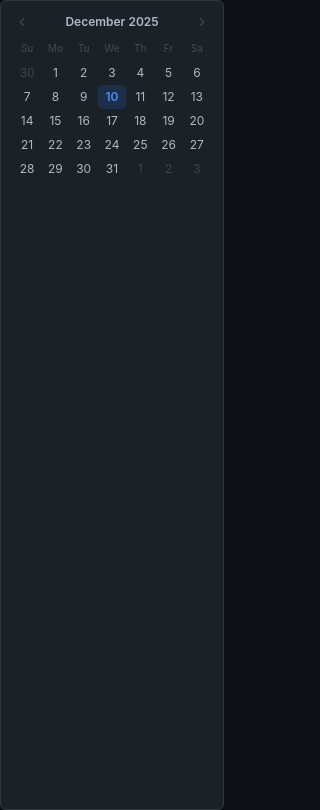
DatePicker › wraps from December to January of the next year
The image size is (320, 810).
Press the mouse on the button named "Next month": (202, 22) [193, 13, 211, 31]
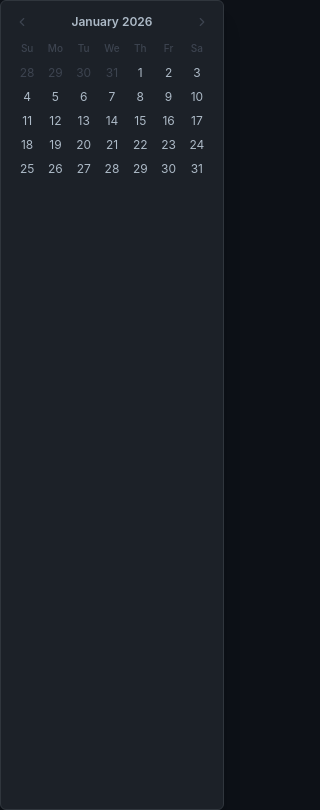
Expected: the text "January 2026" is shown, [72, 14, 152, 30]
